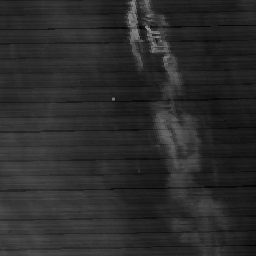Target: (109, 95, 116, 102)
